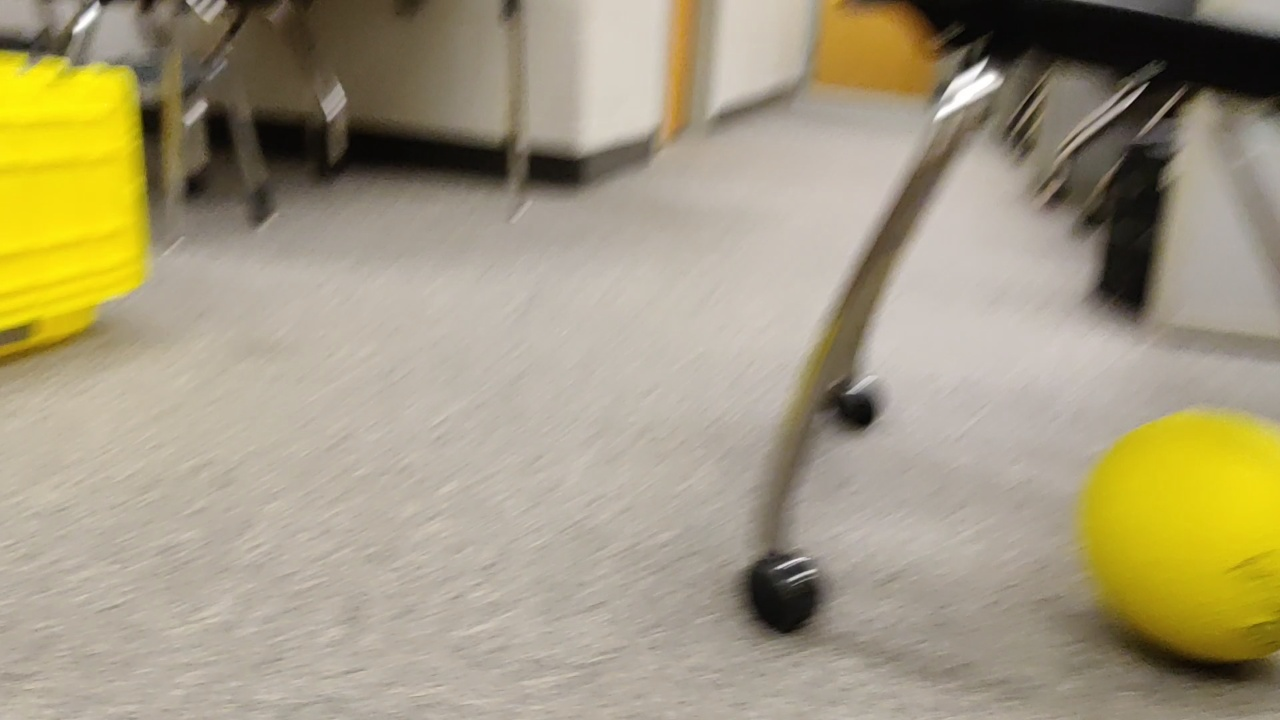Ball: (1082, 407, 1280, 675)
